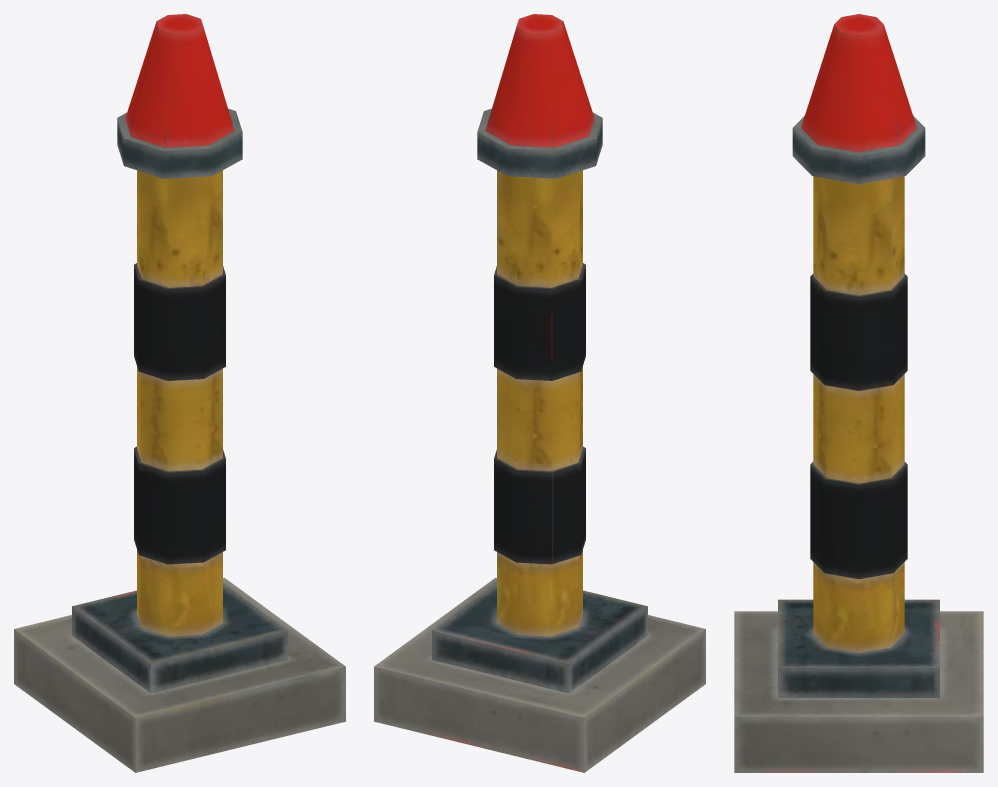
Rendered from beacon.glb.
3 views of the same model, side by side, from view 1: azimuth 30°, elevation 25°; view 2: azimuth 150°, elevation 25°; view 3: azimuth 270°, elevation 25° (orthographic). The views are drawn at different scales.
Visible parts, largest first — view 1: te_perimeter_beacon; view 2: te_perimeter_beacon; view 3: te_perimeter_beacon.
Boxes of the visible parts, bbox=[...] form: te_perimeter_beacon: bbox=[14, 14, 345, 772]; te_perimeter_beacon: bbox=[374, 14, 705, 772]; te_perimeter_beacon: bbox=[734, 14, 983, 772].
Size of the model in its own units: 0.12 by 0.37 by 0.12.
1 material, 1 textured.
